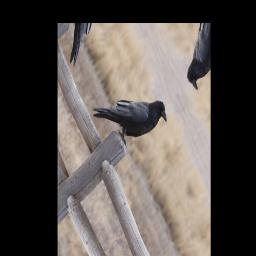Crow: (90, 55, 171, 173)
